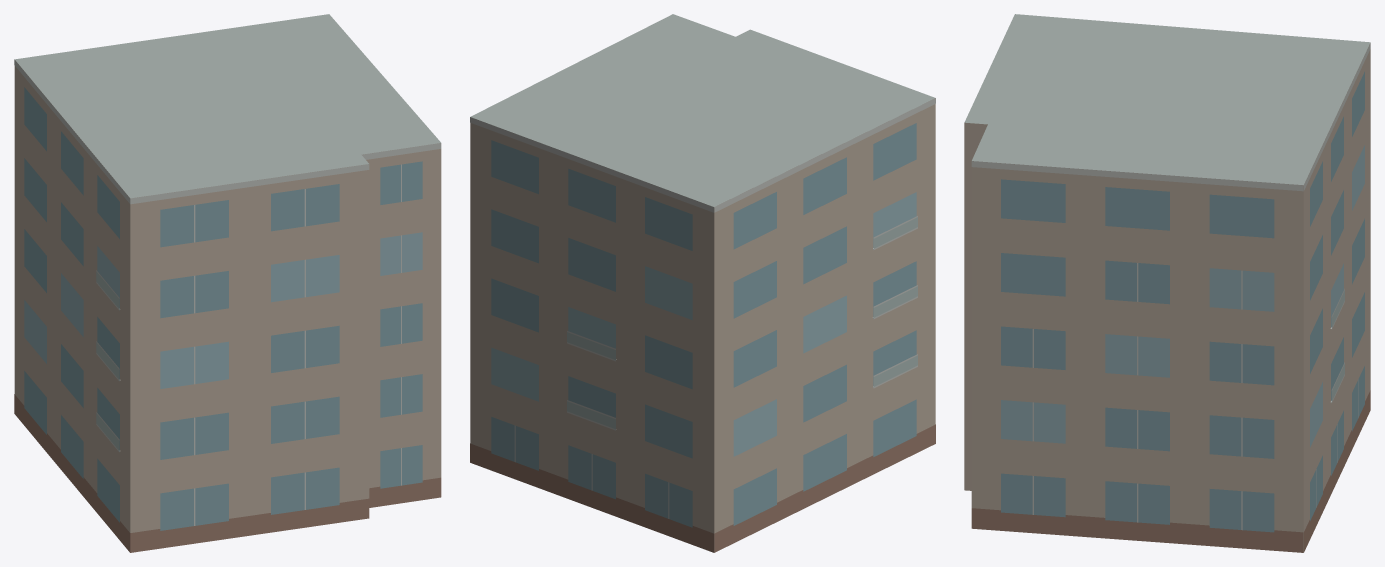
Rendered from survey-upis-32974230.glb.
3 views of the same model, side by side, from view 1: azimuth 30°, elevation 25°; view 2: azimuth 150°, elevation 25°; view 3: azimuth 270°, elevation 25° (orthographic). The views are drawn at different scales.
Parts seen in each view (by area): view 1: survey-upis-32974230.tmp; view 2: survey-upis-32974230.tmp; view 3: survey-upis-32974230.tmp.
Part boxes in pixels (x1=…): survey-upis-32974230.tmp: x1=14, y1=14, x2=441, y2=552; survey-upis-32974230.tmp: x1=470, y1=14, x2=935, y2=552; survey-upis-32974230.tmp: x1=964, y1=14, x2=1370, y2=552.
Size of the model in its own units: 14.64 by 14.65 by 14.68.
